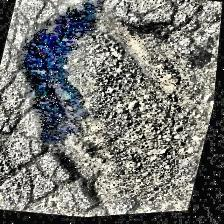pothole: (0, 0, 218, 222)
